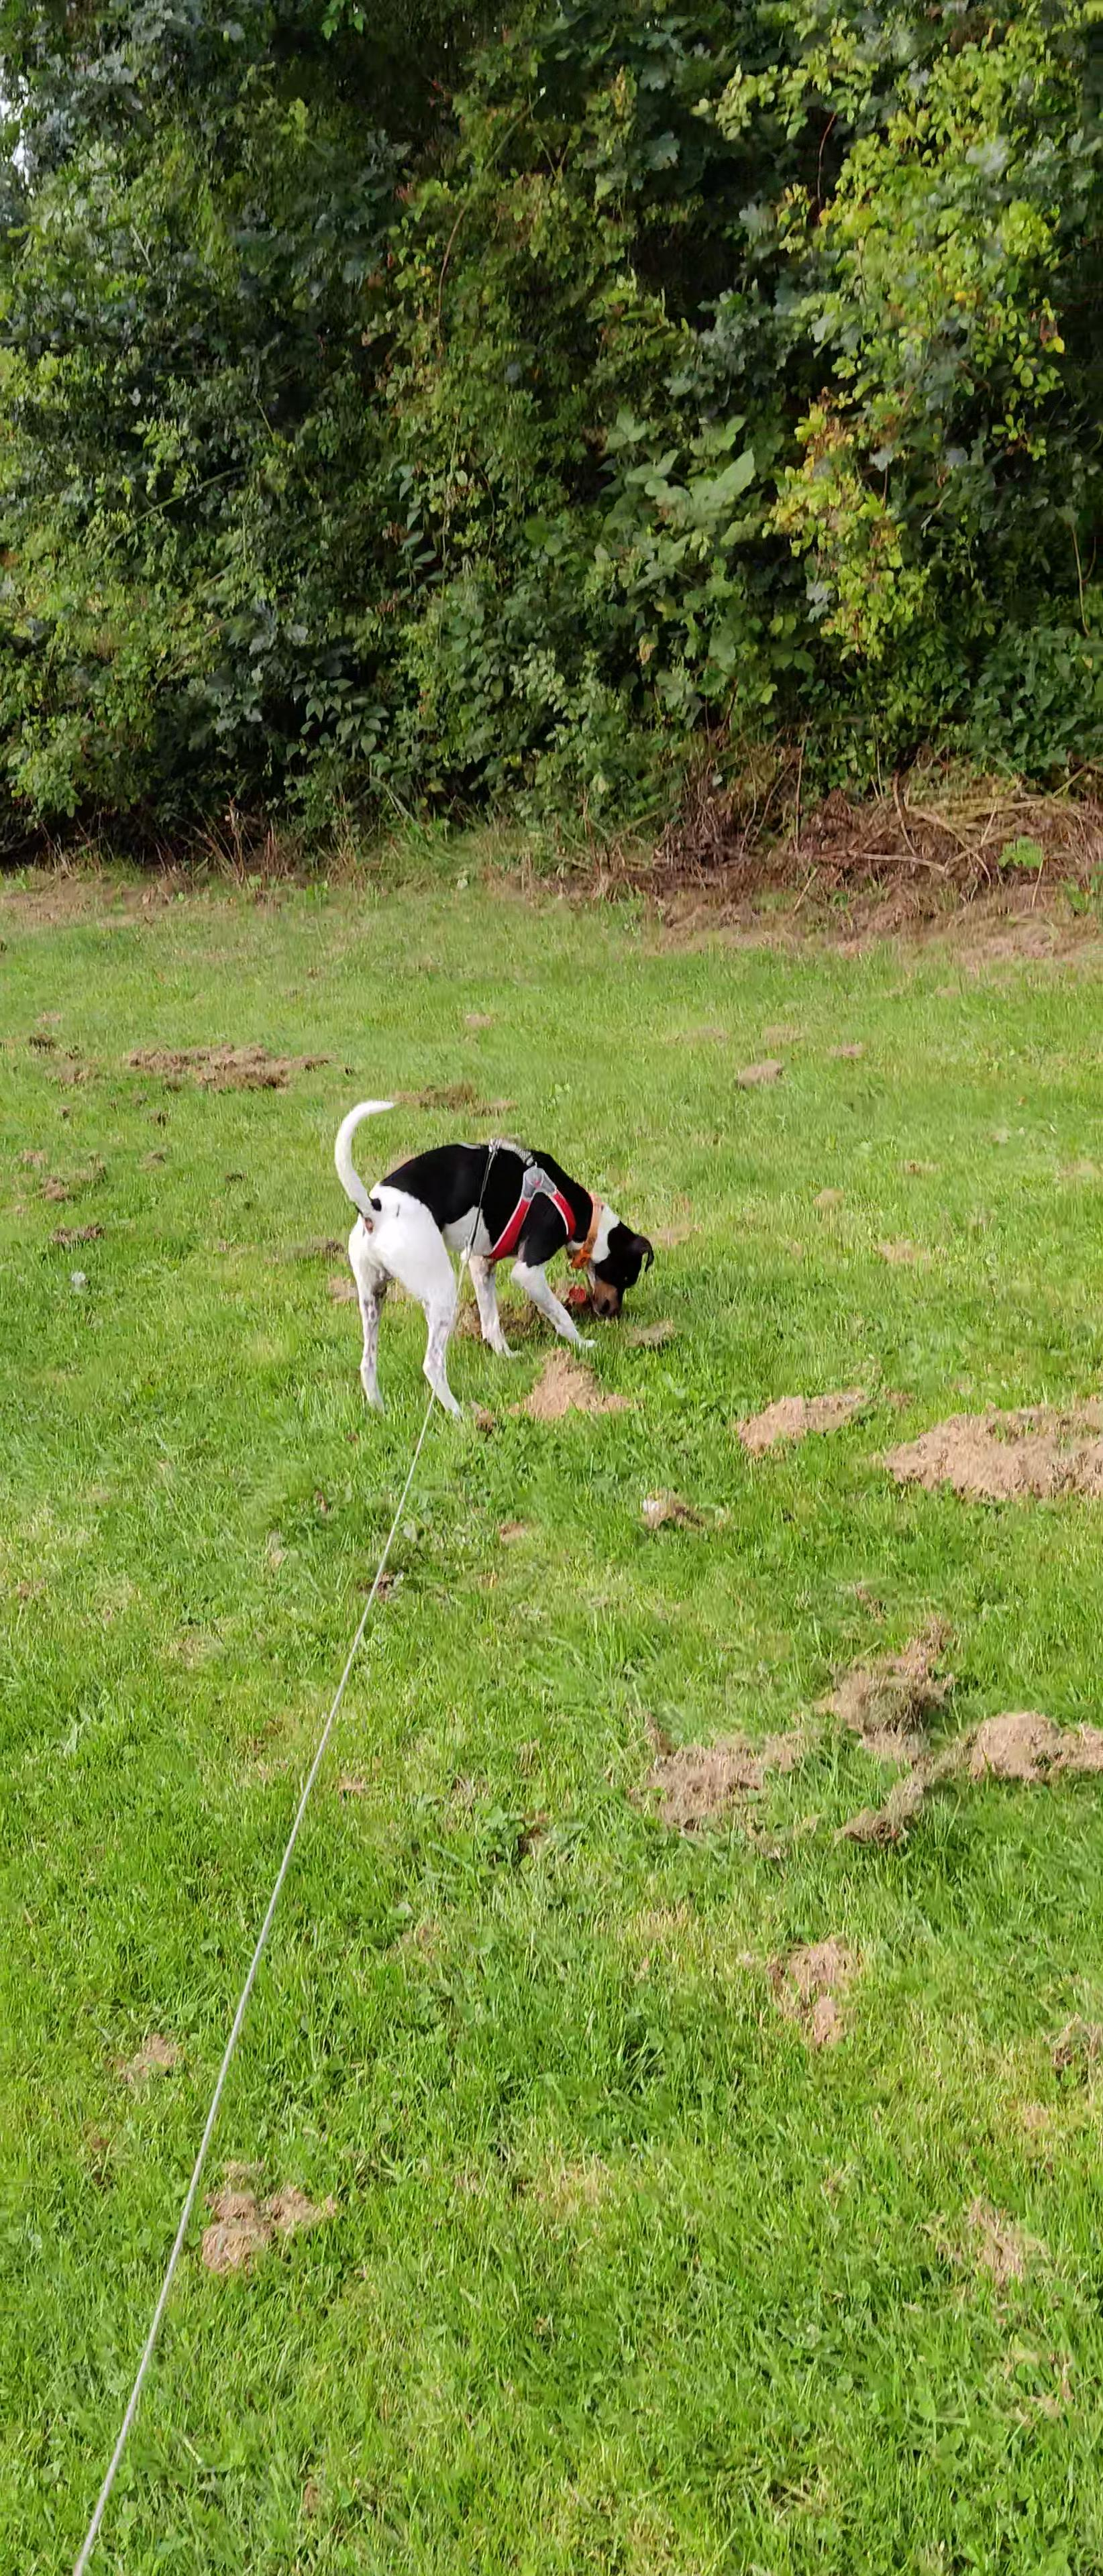Dog: (322, 1094, 662, 1424)
